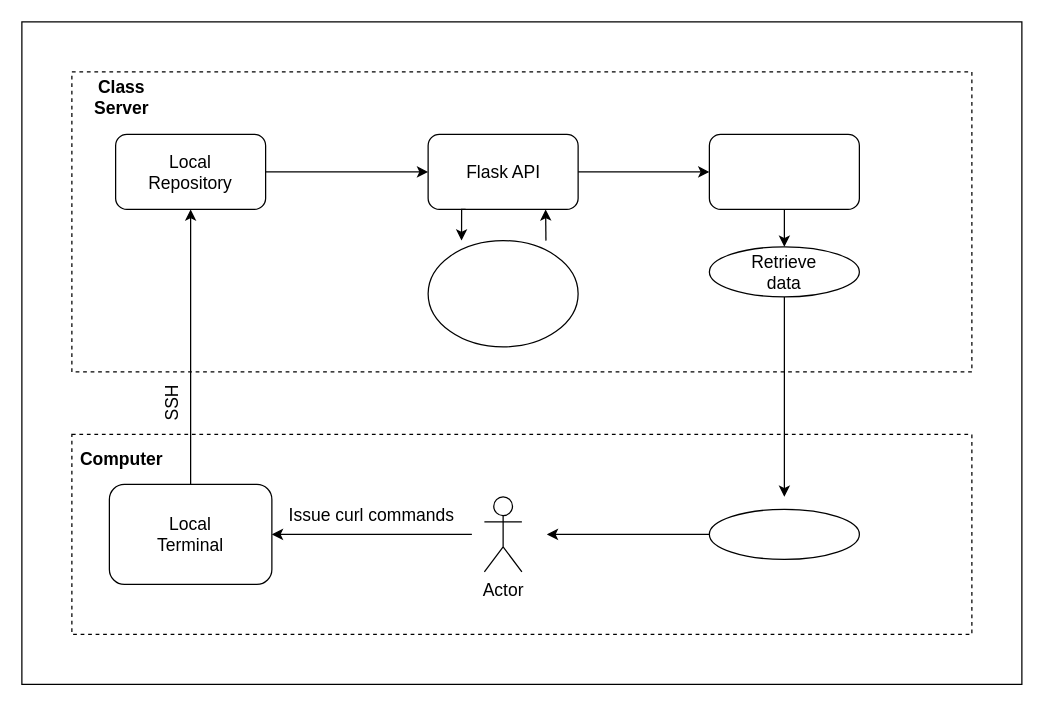
Some shapes in this 1044 by 706 pixel diagram are drawn without their labels. The shapes that lost their labels are listed below. From the top down, each one's box as (x1, y1, x2, y2) in pixels, then its label:
(708, 133, 859, 209): Redis DB
(427, 239, 578, 347): Waits for an processes curl requests from the user
(708, 508, 859, 559): Print data to terminal
